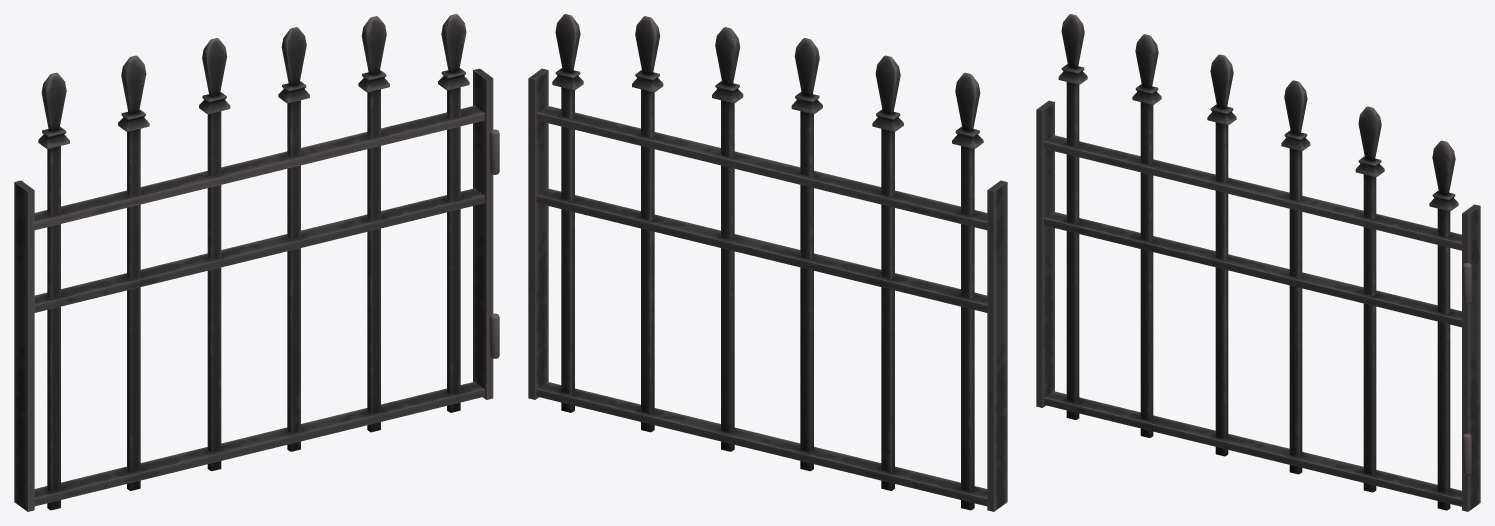
Rendered from StreetFence02_A6.FBX.
3 renders of one model, left to right at view 1: azimuth 30°, elevation 25°; view 2: azimuth 150°, elevation 25°; view 3: azimuth 330°, elevation 25°, orthographic. The views are drawn at different scales.
Parts seen in each view (by area): view 1: StreetFence02_A6; view 2: StreetFence02_A6; view 3: StreetFence02_A6.
Part boxes in pixels (bbox=[...]): StreetFence02_A6: bbox=[14, 14, 499, 511]; StreetFence02_A6: bbox=[528, 14, 1007, 511]; StreetFence02_A6: bbox=[1036, 14, 1480, 511].
Size of what is drawn, in the model's own units: 2.07 by 1.83 by 0.1305.
